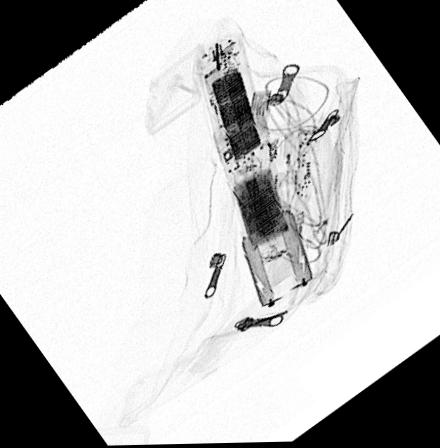Baton: (191, 35, 315, 311)
